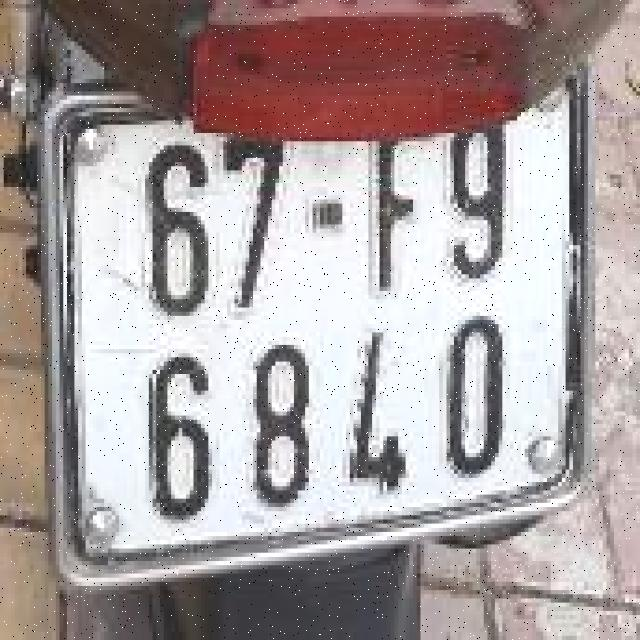0: (434, 295, 516, 495)
4: (340, 318, 422, 509)
6: (132, 330, 225, 534), (134, 139, 219, 322)
7: (219, 125, 294, 316)
8: (244, 332, 326, 507)
9: (443, 108, 532, 283)
F: (352, 116, 434, 300)
